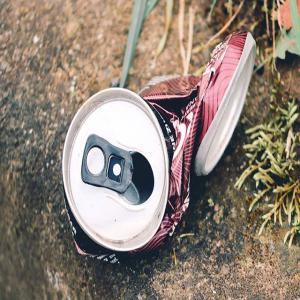Can: (62, 30, 259, 269)
